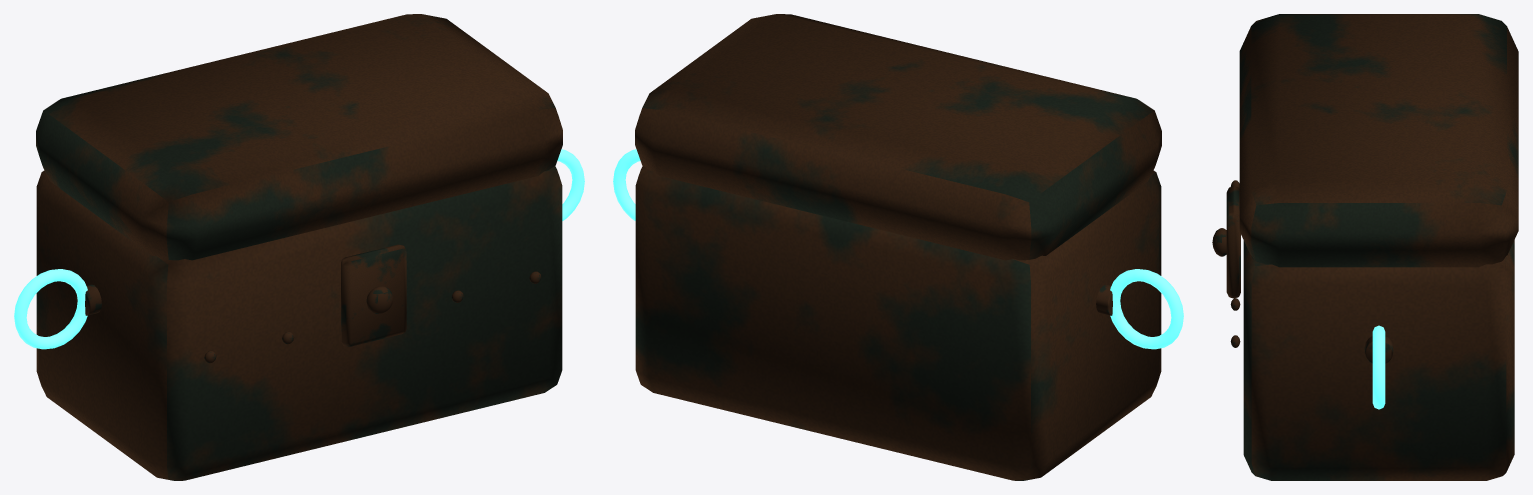
The model's file is relic_chest.fbx.
The picture shows the model from 3 angles, left to right: view 1: azimuth 30°, elevation 25°; view 2: azimuth 150°, elevation 25°; view 3: azimuth 270°, elevation 25°; orthographic projection. The views are drawn at different scales.
Parts seen in each view (by area): view 1: TH10_Chest_Body, TH10_Chest_Lid, TH10_Chest_LockPlate, TH10_Chest_Handle, TH10_Chest_Handle.001, TH10_Chest_LockBoss; view 2: TH10_Chest_Body, TH10_Chest_Lid, TH10_Chest_Handle, TH10_Chest_Handle.001; view 3: TH10_Chest_Lid, TH10_Chest_Body, TH10_Chest_LockPlate, TH10_Chest_Handle.001, TH10_Chest_HandleSocket.001, TH10_Chest_LockBoss.
Part boxes in pixels (x1,y1,x2,y2): TH10_Chest_Body: [36, 166, 562, 480]; TH10_Chest_Lid: [36, 14, 562, 260]; TH10_Chest_LockPlate: [341, 244, 406, 346]; TH10_Chest_Handle: [14, 269, 87, 349]; TH10_Chest_Handle.001: [557, 149, 584, 220]; TH10_Chest_LockBoss: [366, 286, 393, 314]; TH10_Chest_Body: [635, 166, 1161, 480]; TH10_Chest_Lid: [635, 14, 1161, 260]; TH10_Chest_Handle: [1110, 269, 1183, 349]; TH10_Chest_Handle.001: [613, 149, 640, 220]; TH10_Chest_Lid: [1239, 14, 1518, 267]; TH10_Chest_Body: [1243, 240, 1514, 480]; TH10_Chest_LockPlate: [1226, 186, 1240, 298]; TH10_Chest_Handle.001: [1372, 325, 1385, 409]; TH10_Chest_HandleSocket.001: [1364, 336, 1393, 363]; TH10_Chest_LockBoss: [1212, 228, 1226, 256].
Size of the model in its own units: 0.806 by 0.41 by 0.384.
2 materials, 1 textured.
